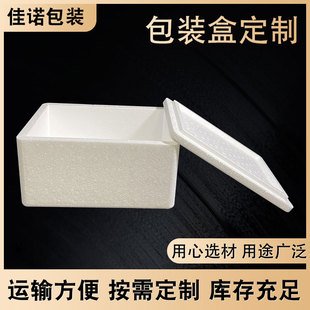Boxes: (17, 99, 293, 211)
